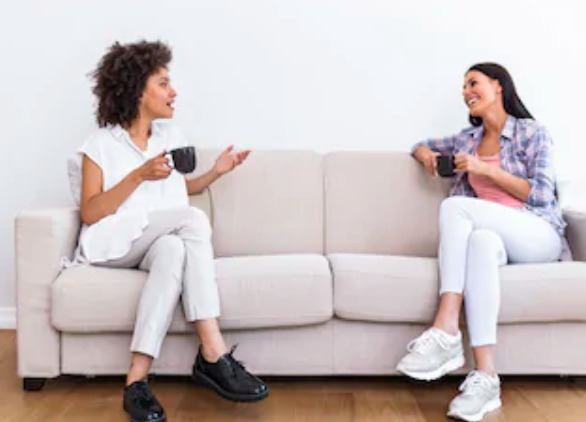Good: (81, 37, 566, 422)
